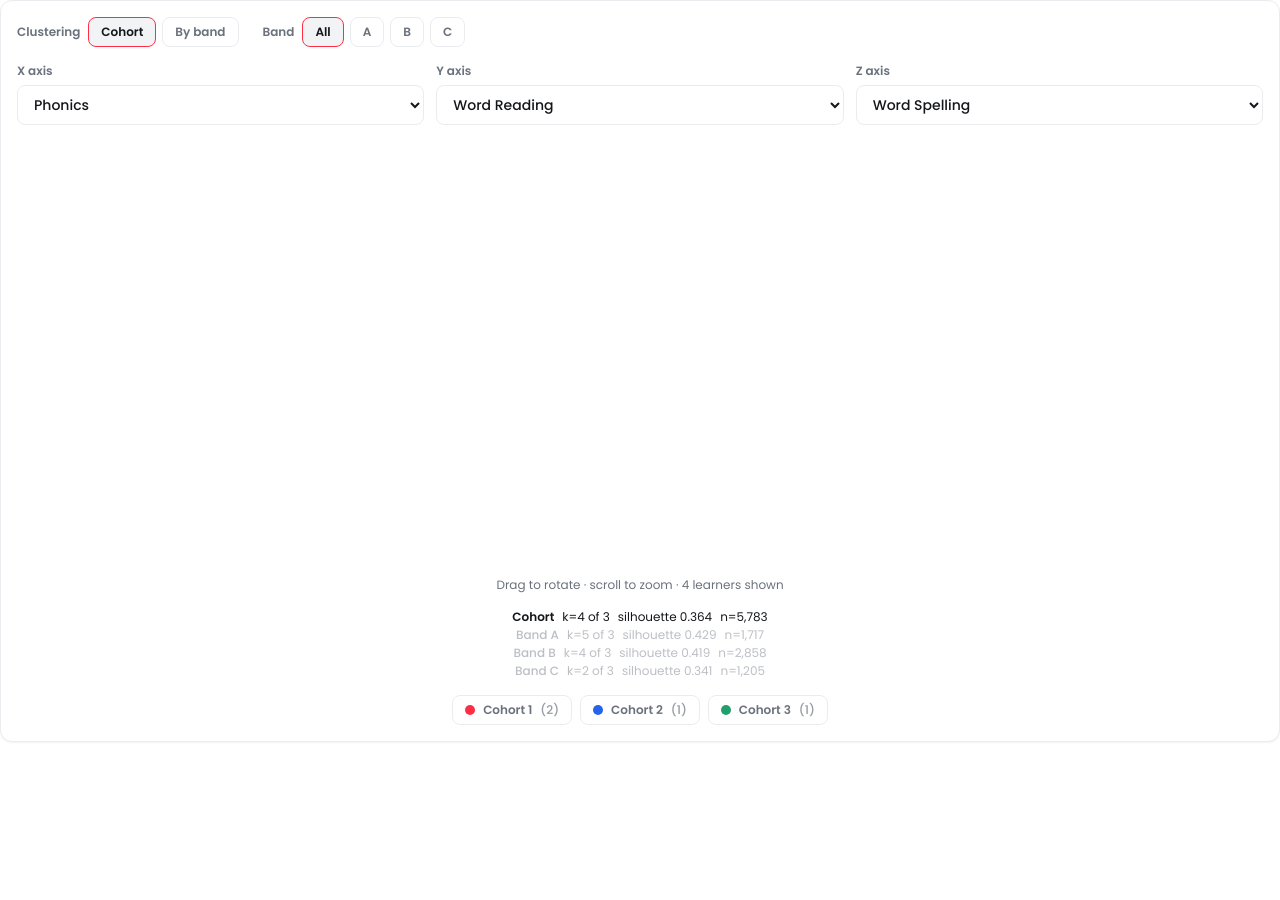
Test: UT-2.35: a combination matching nobody says so instead of rendering an empty plot
Step 1. Click the radio button labelled "C" → (448, 32), box [430,17,465,47]
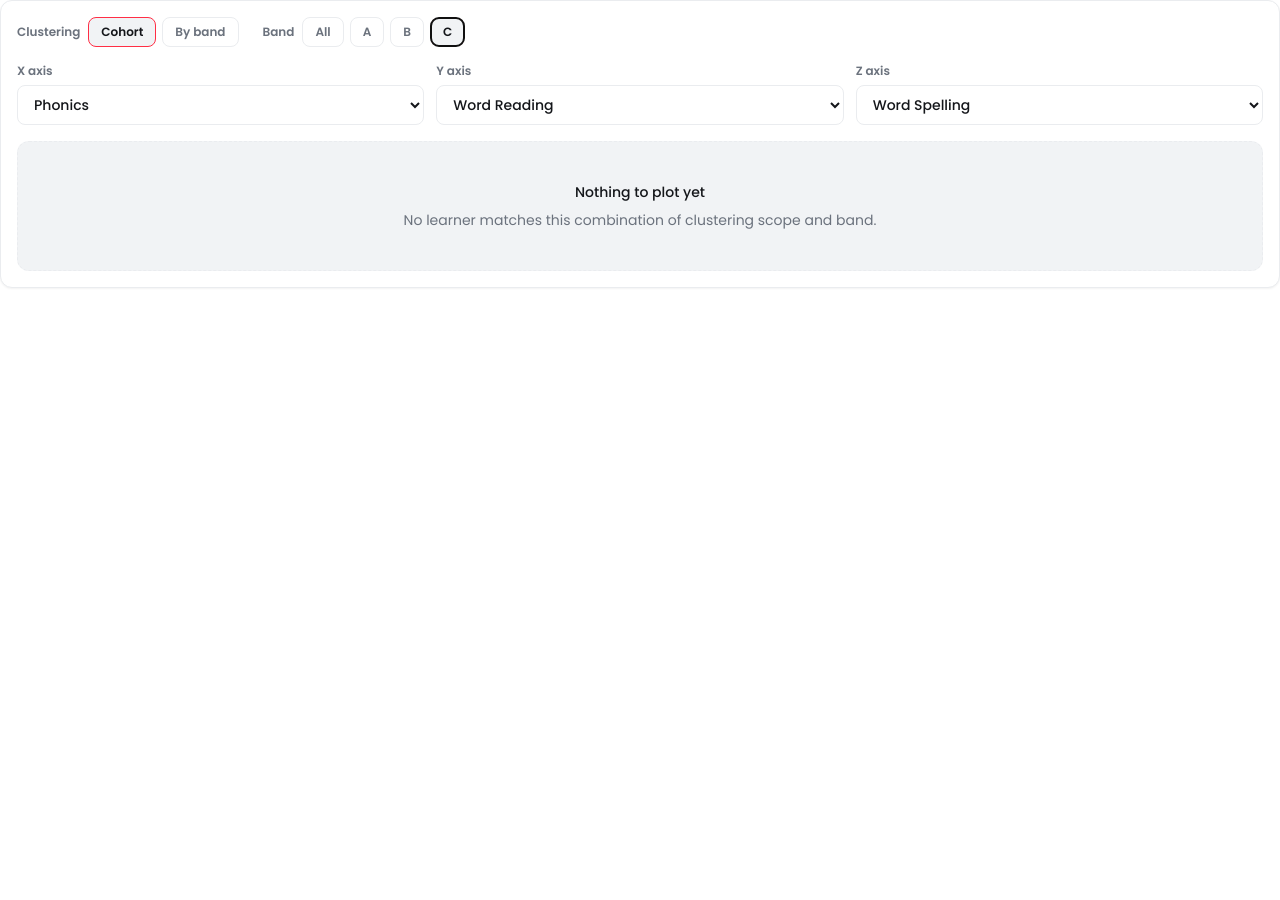
Expected: the text "No learner matches" is shown, [404,210,876,230]
